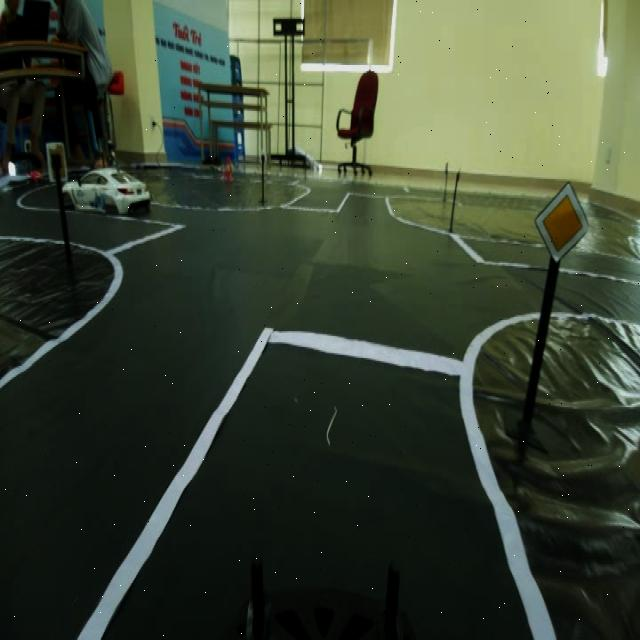priority: (530, 172, 586, 268)
